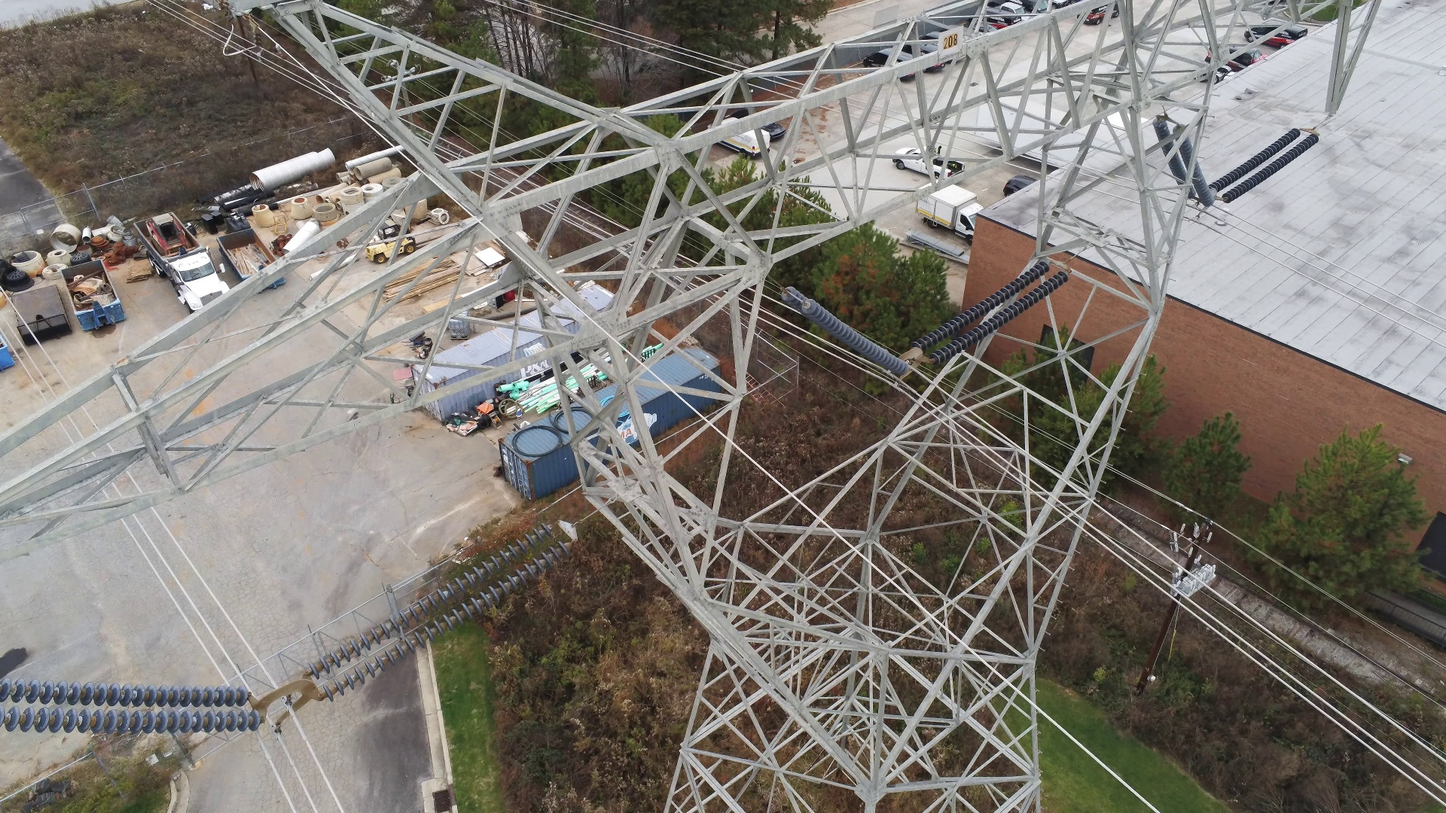insulator: (307, 520, 572, 705), (911, 260, 1070, 367), (1, 675, 263, 737), (779, 283, 910, 378), (1207, 126, 1322, 205), (1152, 114, 1216, 209)
